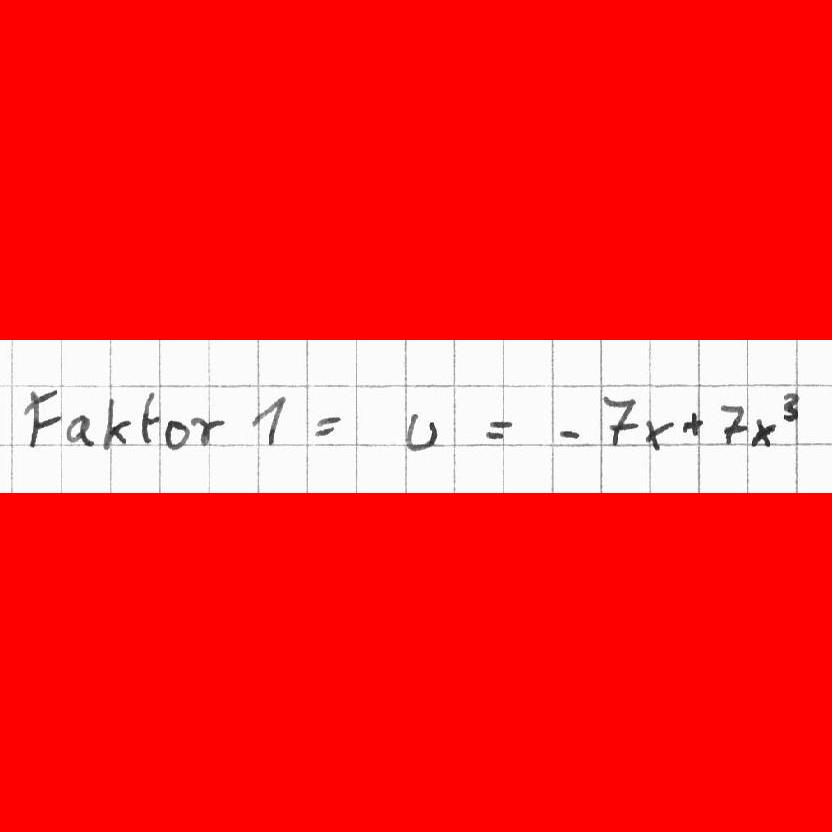Char: (21, 383, 61, 450), (600, 390, 638, 447), (248, 393, 288, 446), (401, 412, 440, 452), (103, 394, 130, 449), (189, 413, 229, 447), (718, 400, 745, 446), (65, 409, 96, 448), (139, 389, 159, 446), (643, 417, 673, 454), (310, 411, 343, 440), (482, 414, 515, 441), (163, 417, 189, 451), (751, 416, 775, 450), (682, 408, 705, 438), (780, 391, 801, 423), (556, 425, 583, 441)
